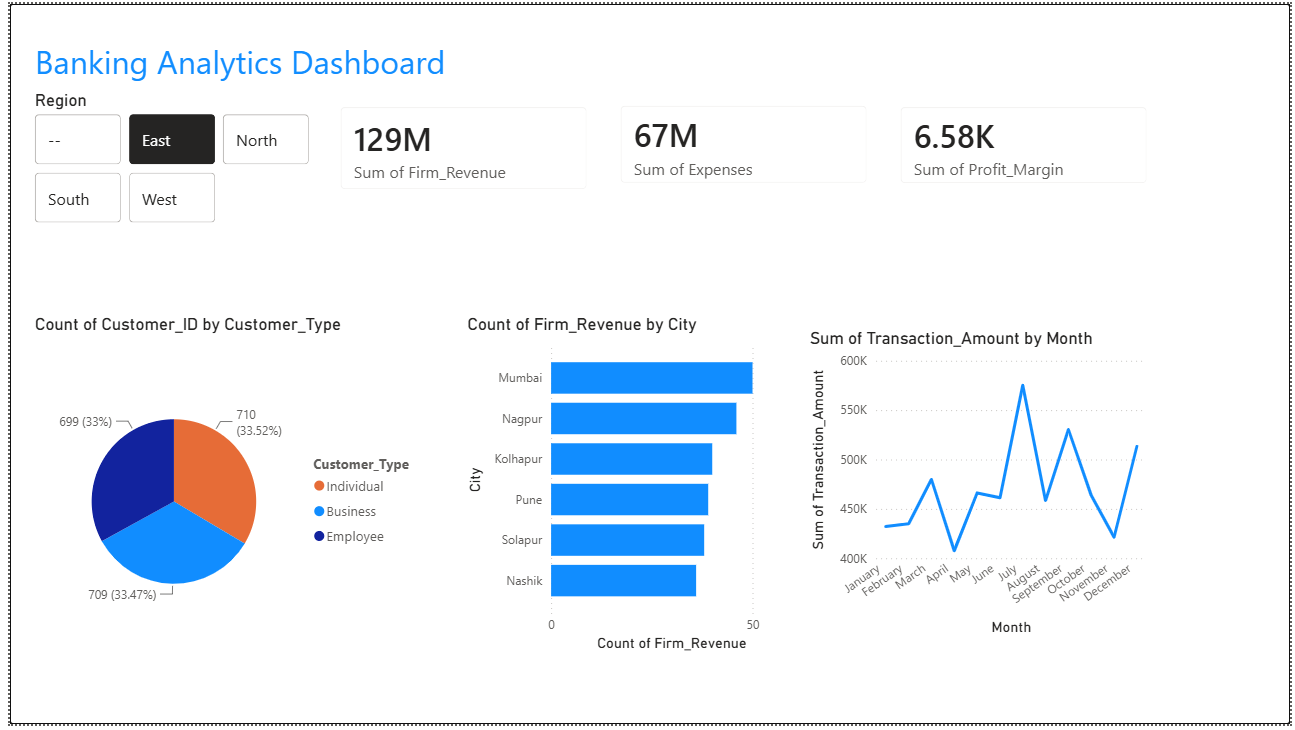

The page's visual inventory and layout, read from the dashboard file:
{"tool":"powerbi","page":{"name":"Page 1","canvas":[1280,720],"ordinal":0},"visuals":[{"type":"cardVisual","fields":{"Data":["Sum(bank_data.Firm_Revenue)"]},"box":[313.8,86.2,280,116.2],"z":0},{"type":"cardVisual","fields":{"Data":["Sum(bank_data.Expenses)"]},"box":[593.8,85,280,111.2],"z":1000},{"type":"cardVisual","fields":{"Data":["Sum(bank_data.Profit_Margin)"]},"box":[873.8,86.2,280,110],"z":2000},{"type":"clusteredBarChart","fields":{"Category":["bank_data.City"],"Y":["CountNonNull(bank_data.Firm_Revenue)"]},"box":[452.5,310,342.5,342.5],"z":3000},{"type":"pieChart","fields":{"Category":["customer_data.Customer_Type"],"Y":["CountNonNull(customer_data.Customer_ID)"]},"box":[20,310,401.2,356.2],"z":4000},{"type":"lineChart","fields":{"Category":["transaction_data.Transaction_Date.Variation.Date Hierarchy.Month"],"Y":["Sum(transaction_data.Transaction_Amount)"]},"box":[795,323.8,346.2,312.5],"z":5000},{"type":"advancedSlicerVisual","fields":{"Values":["bank_data.Region"]},"box":[20,86.2,285,138.8],"z":6000},{"type":"textbox","box":[20,31.2,432.5,55],"z":7000}]}

Visuals, with their boxes in screenshot pixels (x1, y1, x2, y2), scaled from the page's 1280x720 canvas onto the 1295x730 screenshot:
cardVisual - Sum(bank_data.Firm_Revenue): (317,87,601,205)
cardVisual - Sum(bank_data.Expenses): (601,86,884,199)
cardVisual - Sum(bank_data.Profit_Margin): (884,87,1167,199)
clusteredBarChart - bank_data.City x CountNonNull(bank_data.Firm_Revenue): (458,314,804,662)
pieChart - customer_data.Customer_Type x CountNonNull(customer_data.Customer_ID): (20,314,426,675)
lineChart - transaction_data.Transaction_Date.Variation.Date Hierarchy.Month x Sum(transaction_data.Transaction_Amount): (804,328,1155,645)
advancedSlicerVisual - bank_data.Region: (20,87,309,228)
textbox: (20,32,458,87)
